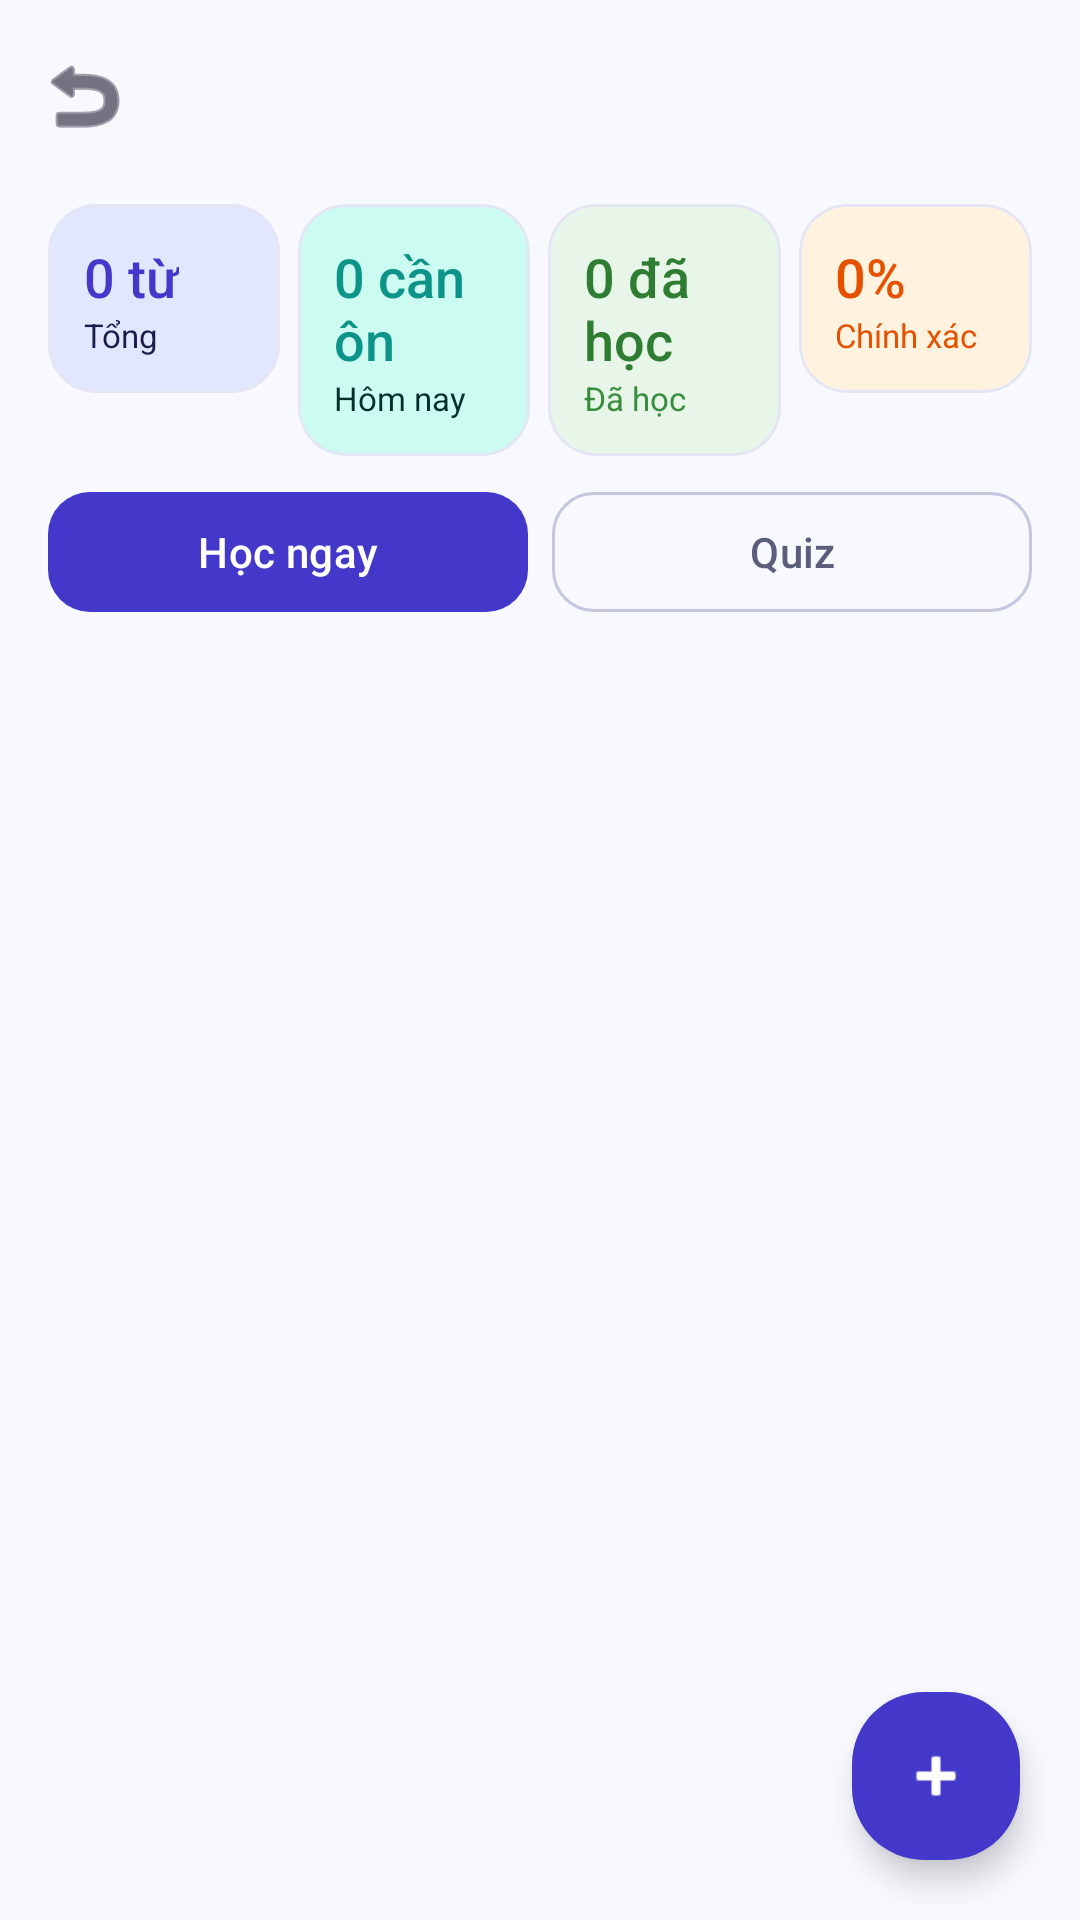

Icon click points for this 1080x1920 phone screenshot, format (x,y):
Thêm mới: (936,1776)
